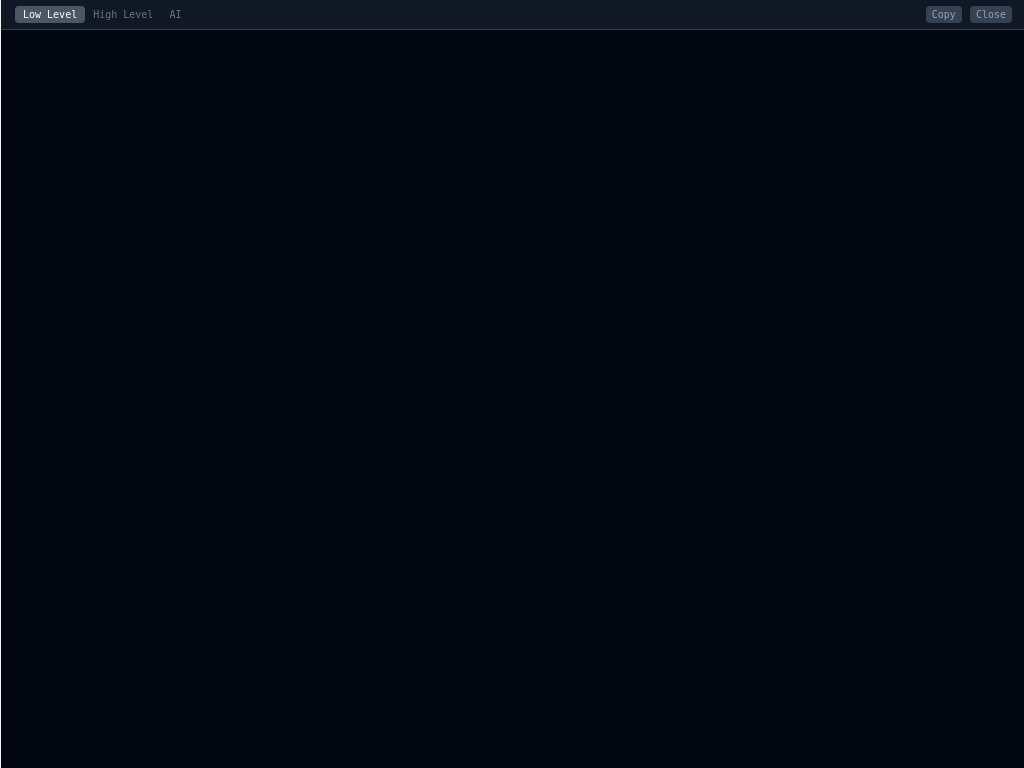
it: decompile Enhance/Explain with no API key configured › shows no such banner before anything is asked for
Click the button "AI". click: (175, 15)
box: [161, 6, 189, 23]
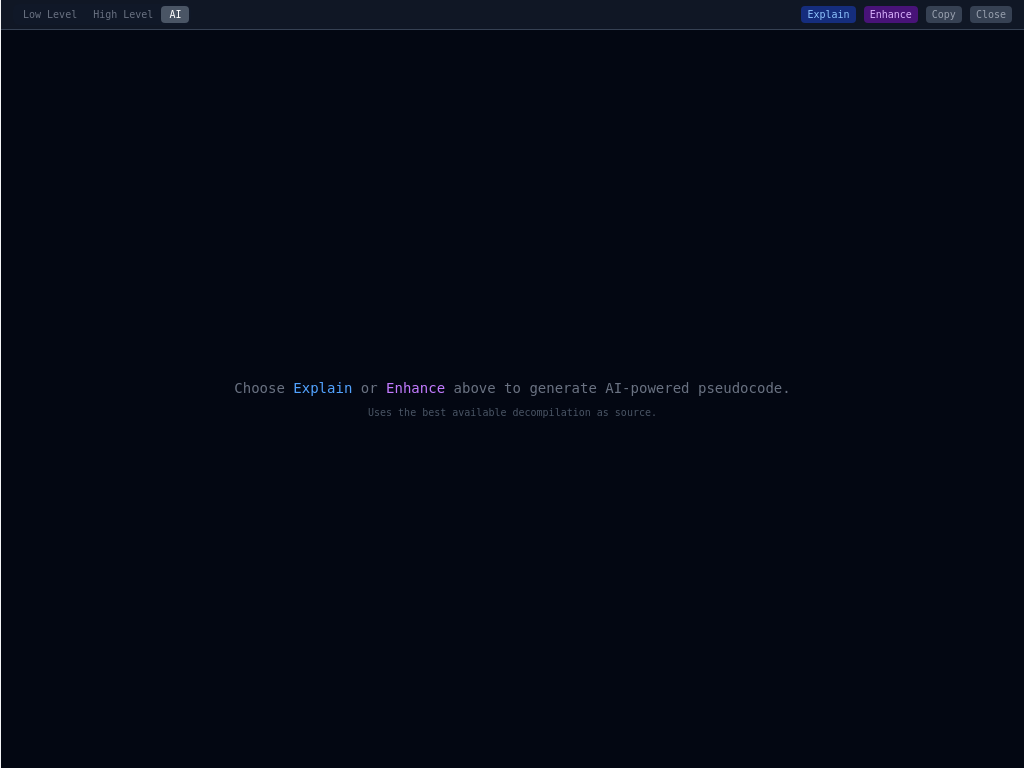
Expected: the text "Choose" is shown, [234, 380, 293, 396]
